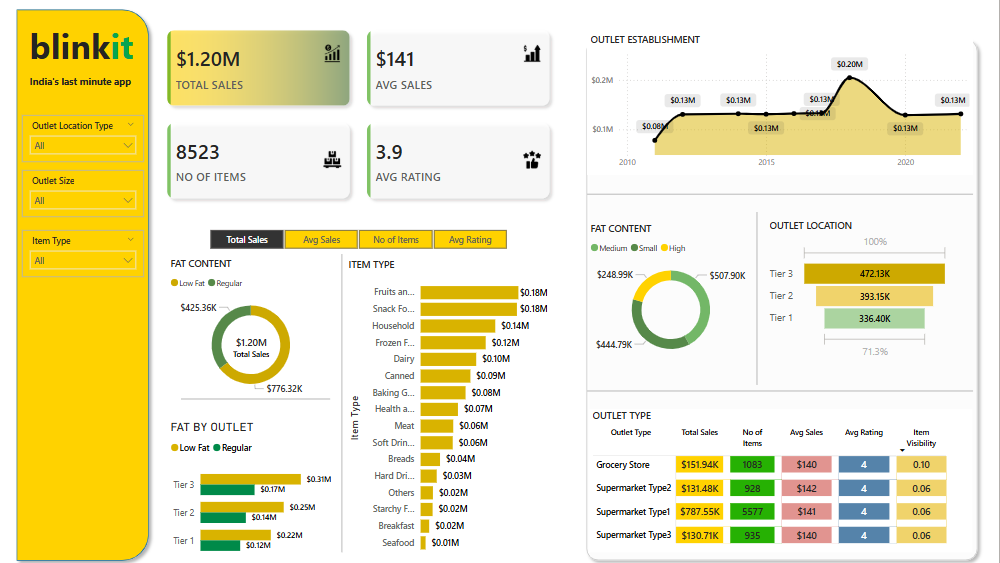

The page's visual inventory and layout, read from the dashboard file:
{"tool":"powerbi","page":{"name":"Page 1","canvas":[1400,800],"ordinal":0},"visuals":[{"type":"shape","box":[13.9,9.8,203.6,790.6],"z":0},{"type":"textbox","box":[36.3,30.7,168.7,73.9],"z":1000},{"type":"textbox","box":[36.3,104.6,160.4,32.1],"z":2000},{"type":"cardVisual","fields":{"Data":["BlinkIT Grocery Data.Total Sales","BlinkIT Grocery Data.Avg Sales","BlinkIT Grocery Data.No of Items","BlinkIT Grocery Data.Avg Rating"]},"box":[217.7,30.9,570.1,271],"z":3000},{"type":"shape","box":[812.8,51.9,566.2,748.3],"z":4000},{"type":"slicer","fields":{"Values":["Metrics.Metrics"]},"box":[269.6,321.6,464.8,39.3],"z":5000},{"type":"cardVisual","fields":{"Data":["BlinkIT Grocery Data.Total Sales"]},"box":[305.4,460.2,93.4,58.6],"z":6000},{"type":"clusteredBarChart","title":"FAT BY OUTLET","fields":{"Y":["BlinkIT Grocery Data.Total Sales"],"Category":["BlinkIT Grocery Data.Outlet Location Type"],"Series":["BlinkIT Grocery Data.Item Fat Content"]},"box":[234,594.2,235.4,206],"z":7000},{"type":"shape","box":[253.8,562,209.2,5.6],"z":8000},{"type":"shape","box":[1354,396,12.5,404.4],"z":9000},{"type":"barChart","title":"ITEM TYPE","fields":{"Y":["BlinkIT Grocery Data.Total Sales"],"Category":["BlinkIT Grocery Data.Item Type"]},"box":[483.5,367.2,288.7,423.2],"z":10000},{"type":"lineChart","title":"OUTLET ESTABLISHMENT","fields":{"Category":["BlinkIT Grocery Data.Outlet Establishment Year"],"Y":["BlinkIT Grocery Data.Total Sales"]},"box":[822.6,51.9,540.9,199],"z":11000},{"type":"donutChart","title":"FAT CONTENT","fields":{"Y":["BlinkIT Grocery Data.Total Sales"],"Category":["BlinkIT Grocery Data.Outlet Size"]},"box":[822.6,316.7,235.4,201.8],"z":12000},{"type":"funnel","title":"OUTLET LOCATION","fields":{"Y":["Sum(BlinkIT Grocery Data.Sales)"],"Category":["BlinkIT Grocery Data.Outlet Location Type"]},"box":[1073.5,312.5,260.7,199],"z":13000},{"type":"shape","box":[822.7,545.2,541,16.7],"z":14000},{"type":"shape","box":[822.7,264.9,541,26.5],"z":15000},{"type":"shape","box":[1037,302.7,47.6,242.4],"z":16000},{"type":"shape","box":[475.1,361.6,8.4,417.6],"z":17000},{"type":"pivotTable","title":"OUTLET TYPE","fields":{"Rows":["BlinkIT Grocery Data.Outlet Type"],"Values":["BlinkIT Grocery Data.Total Sales","BlinkIT Grocery Data.No of Items","BlinkIT Grocery Data.Avg Sales","BlinkIT Grocery Data.Avg Rating","Avg(BlinkIT Grocery Data.Item Visibility)"]},"box":[825.5,578.7,536.9,200.8],"z":18000},{"type":"slicer","title":"FAT CONTENT","fields":{"Values":["BlinkIT Grocery Data.Outlet Location Type"]},"box":[30.8,166.8,171,65.9],"z":19000},{"type":"slicer","title":"FAT CONTENT","fields":{"Values":["BlinkIT Grocery Data.Outlet Size"]},"box":[30.8,243.8,171,65.9],"z":20000},{"type":"slicer","title":"FAT CONTENT","fields":{"Values":["BlinkIT Grocery Data.Item Type"]},"box":[30.8,327.9,171,65.9],"z":21000},{"type":"donutChart","title":"FAT CONTENT","fields":{"Category":["BlinkIT Grocery Data.Item Fat Content"],"Y":["BlinkIT Grocery Data.Total Sales"]},"box":[234,365.8,235.4,201.8],"z":21001}]}

Visuals, with their boxes in screenshot pixels (x1, y1, x2, y2), scaled from the page's 1400x800 canvas onto the 1000x563 screenshot:
shape: BBox(10, 7, 155, 562)
textbox: BBox(26, 22, 146, 74)
textbox: BBox(26, 74, 140, 96)
cardVisual - BlinkIT Grocery Data.Total Sales x BlinkIT Grocery Data.Avg Sales: BBox(156, 22, 563, 212)
shape: BBox(581, 37, 985, 562)
slicer - Metrics.Metrics: BBox(193, 226, 525, 254)
cardVisual - BlinkIT Grocery Data.Total Sales: BBox(218, 324, 285, 365)
"FAT BY OUTLET" clusteredBarChart: BBox(167, 418, 335, 562)
shape: BBox(181, 396, 331, 399)
shape: BBox(967, 279, 976, 562)
"ITEM TYPE" barChart: BBox(345, 258, 552, 556)
"OUTLET ESTABLISHMENT" lineChart: BBox(588, 37, 974, 177)
"FAT CONTENT" donutChart: BBox(588, 223, 756, 365)
"OUTLET LOCATION" funnel: BBox(767, 220, 953, 360)
shape: BBox(588, 384, 974, 395)
shape: BBox(588, 186, 974, 205)
shape: BBox(741, 213, 775, 384)
shape: BBox(339, 254, 345, 548)
"OUTLET TYPE" pivotTable: BBox(590, 407, 973, 549)
"FAT CONTENT" slicer: BBox(22, 117, 144, 164)
"FAT CONTENT" slicer: BBox(22, 172, 144, 218)
"FAT CONTENT" slicer: BBox(22, 231, 144, 277)
"FAT CONTENT" donutChart: BBox(167, 257, 335, 399)
